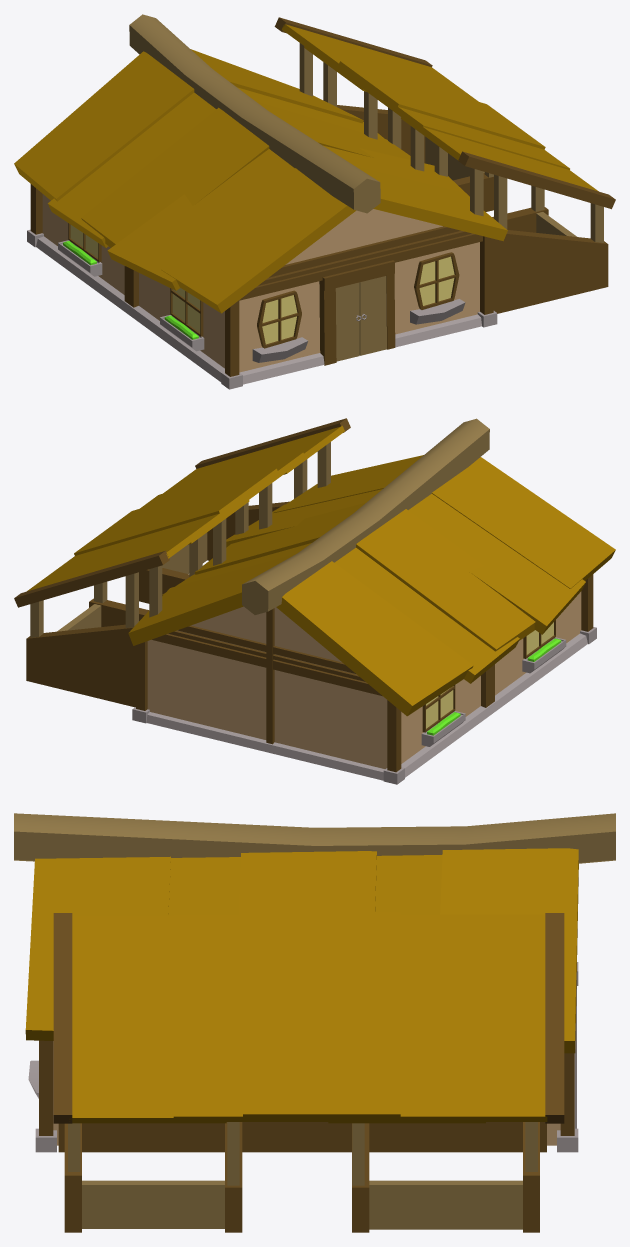
Rendered from mesh_Town_Stables.fbx.
3 views of the same model, one above another, from view 1: azimuth 30°, elevation 25°; view 2: azimuth 150°, elevation 25°; view 3: azimuth 270°, elevation 25° (orthographic). The views are drawn at different scales.
Visible parts, largest first — view 1: Town_Stables; view 2: Town_Stables; view 3: Town_Stables.
Part boxes in pixels (box(x1,y1,x2,y2)): Town_Stables: box(14, 14, 615, 389); Town_Stables: box(14, 418, 615, 784); Town_Stables: box(14, 813, 615, 1232).
Size of the model in its own units: 1418 by 587 by 1283.
1 material, 1 textured.
